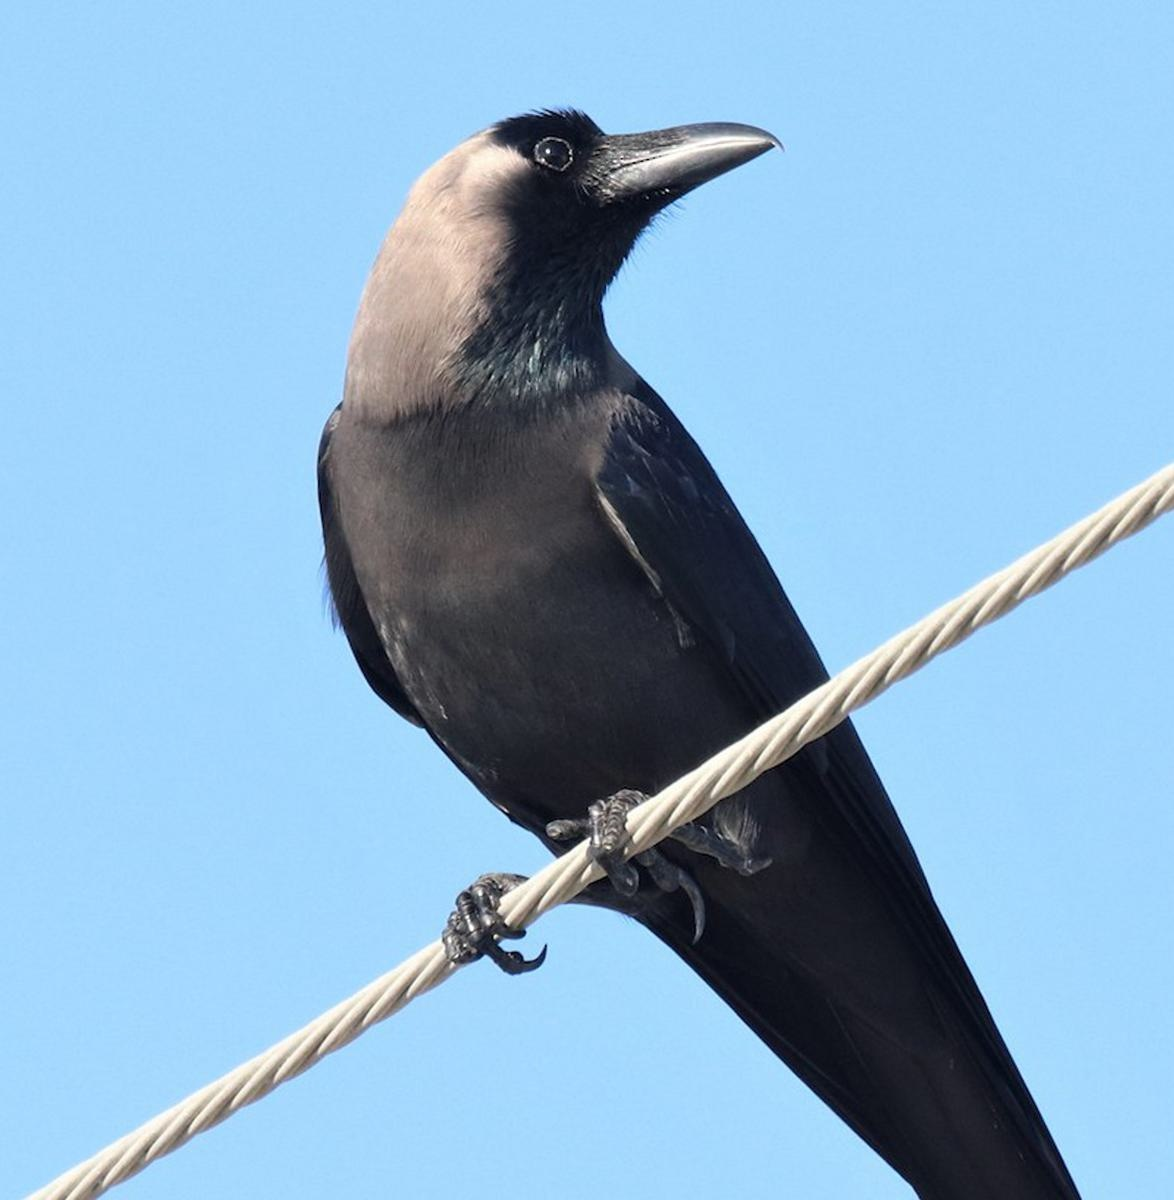crow: (307, 97, 1118, 1200)
